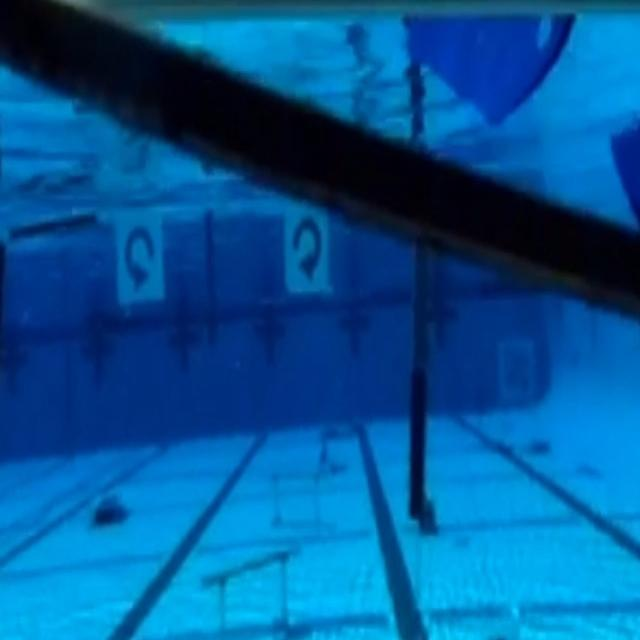Gate: (10, 221, 434, 523)
